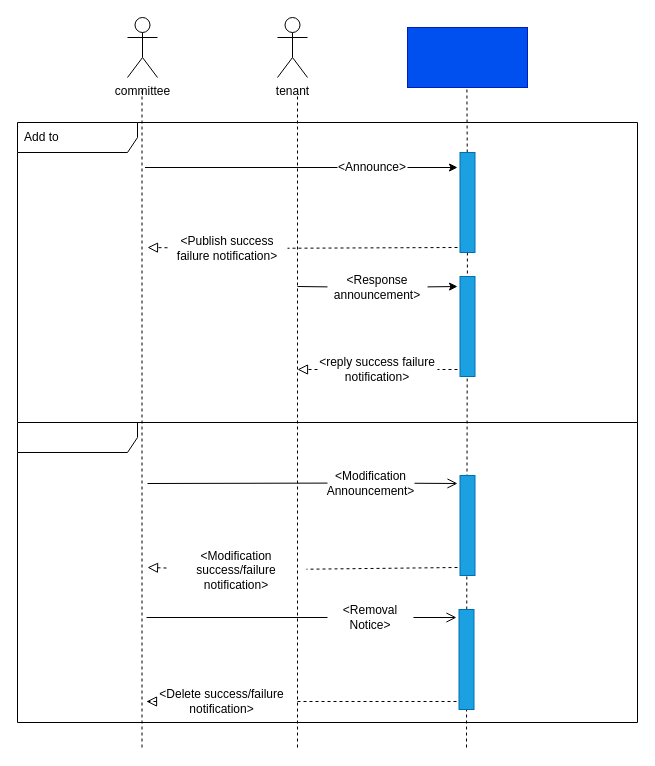
Some shapes in this 655 by 766 pixel diagram are drawn without their labels. The centre of each missing label's shape, as x and y in pixels:
APP: (467,57)
revise: (327,572)
